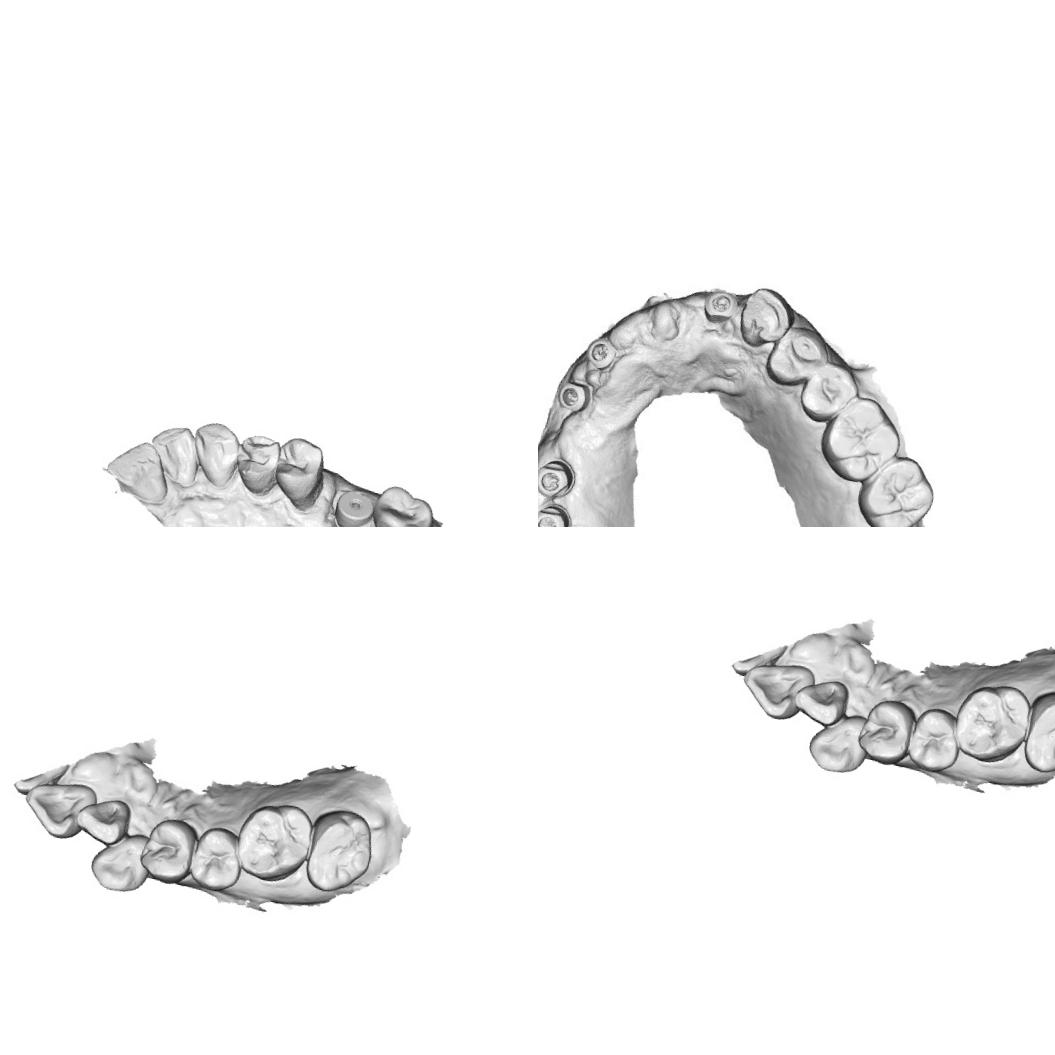canine: (84, 823, 158, 899), (802, 704, 876, 780), (184, 416, 244, 490), (734, 284, 799, 352)
implant: (328, 485, 377, 527), (538, 452, 578, 503), (553, 374, 594, 415), (698, 286, 740, 326), (582, 332, 620, 373), (538, 499, 575, 527)
incisor: (16, 770, 98, 845), (734, 651, 816, 726), (100, 433, 176, 506), (144, 420, 204, 489), (69, 789, 134, 851), (787, 670, 852, 732)
molar: (812, 389, 907, 489), (945, 672, 1039, 771), (227, 792, 321, 890), (300, 802, 382, 900), (850, 446, 940, 527), (1017, 683, 1055, 781), (365, 480, 441, 527)
premolar: (181, 820, 251, 898), (899, 701, 969, 779), (133, 810, 201, 890), (851, 692, 919, 770), (268, 432, 332, 514), (762, 320, 834, 392), (794, 356, 862, 429), (229, 430, 284, 498)
